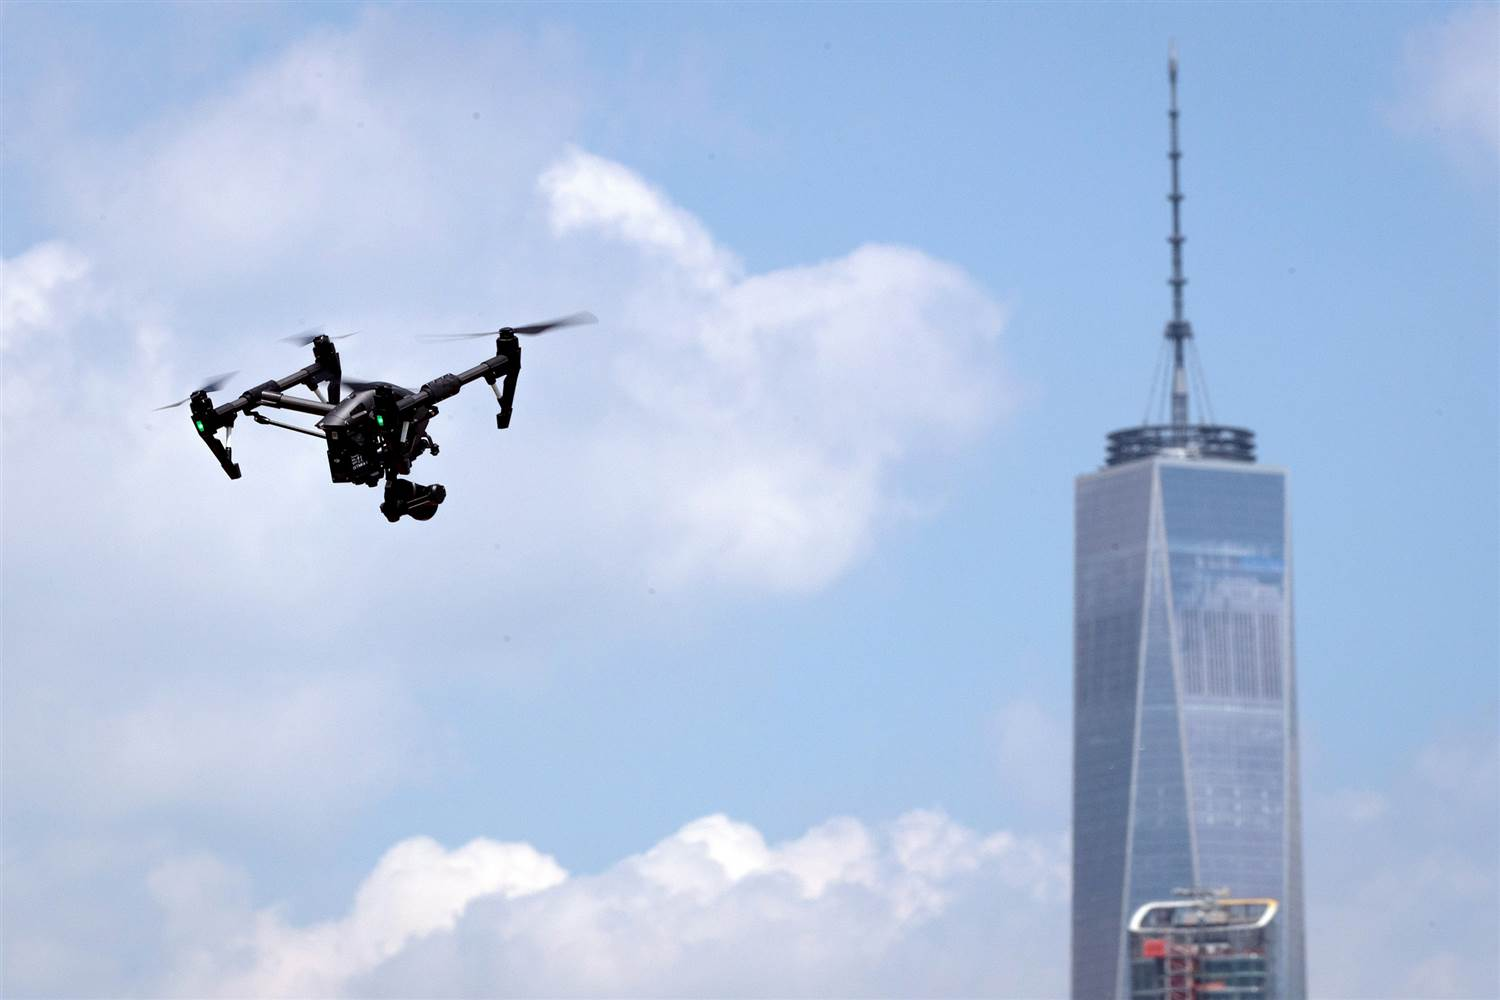drone: (150, 312, 602, 537)
